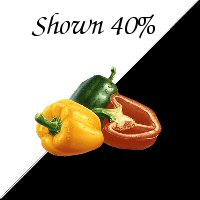capsicum: (92, 93, 163, 149), (34, 98, 103, 154), (67, 69, 119, 117)
